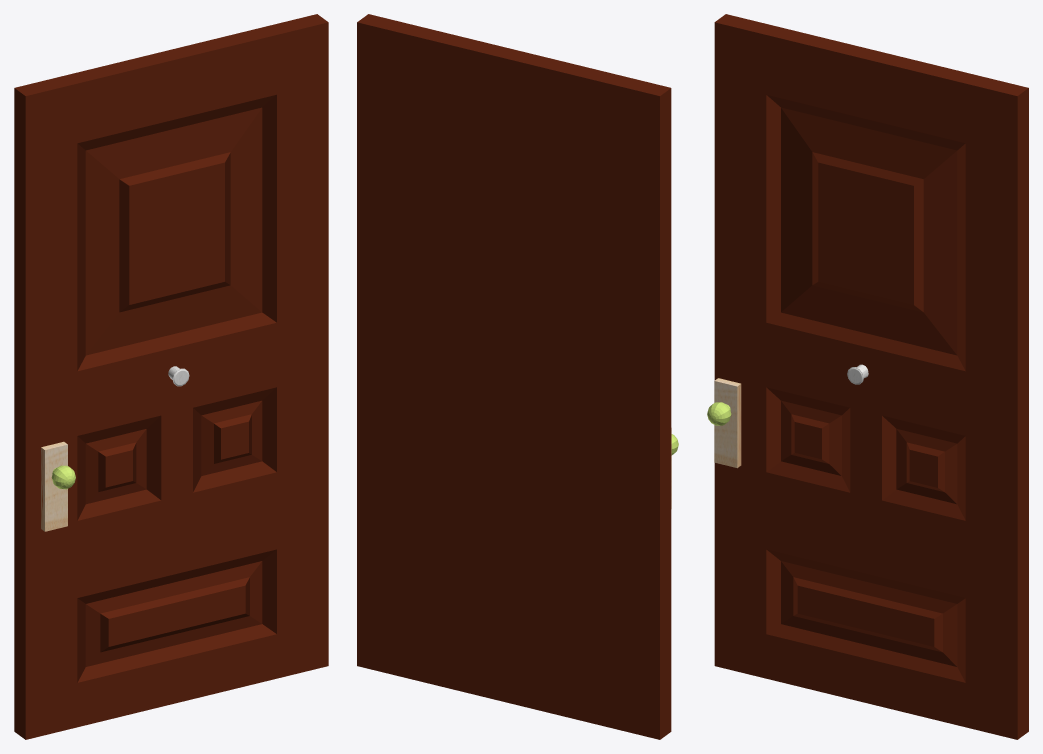
Rendered from puertaF.obj.
3 renders of one model, left to right at view 1: azimuth 30°, elevation 25°; view 2: azimuth 150°, elevation 25°; view 3: azimuth 330°, elevation 25°, orthographic.
Parts seen in each view (by area): view 1: up_house:Box801; view 2: up_house:Box801; view 3: up_house:Box801.
Boxes of the visible parts, x1,y1,x2,y2 form: up_house:Box801: [14, 14, 328, 739]; up_house:Box801: [357, 14, 678, 739]; up_house:Box801: [707, 14, 1028, 739].
Size of the model in its own units: 1.69 by 3.44 by 0.3313.
Materials: 4 (4 with a texture image).
